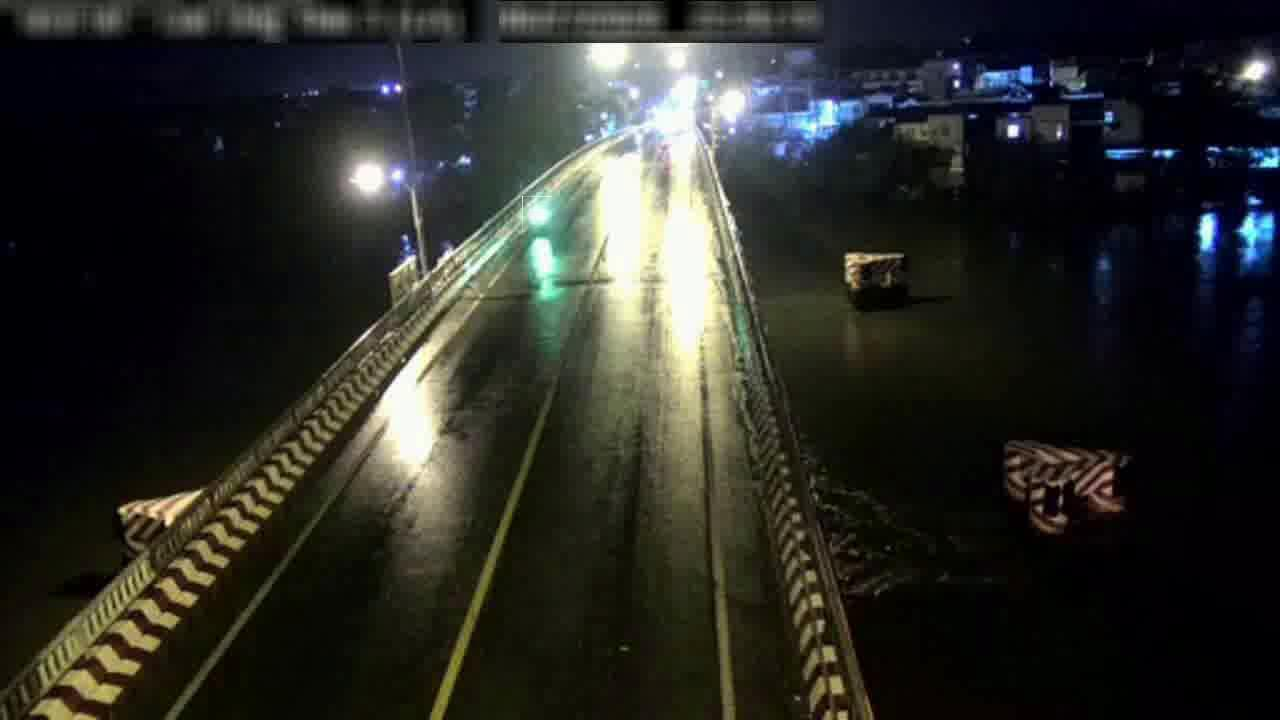motorbike: (522, 196, 553, 233)
